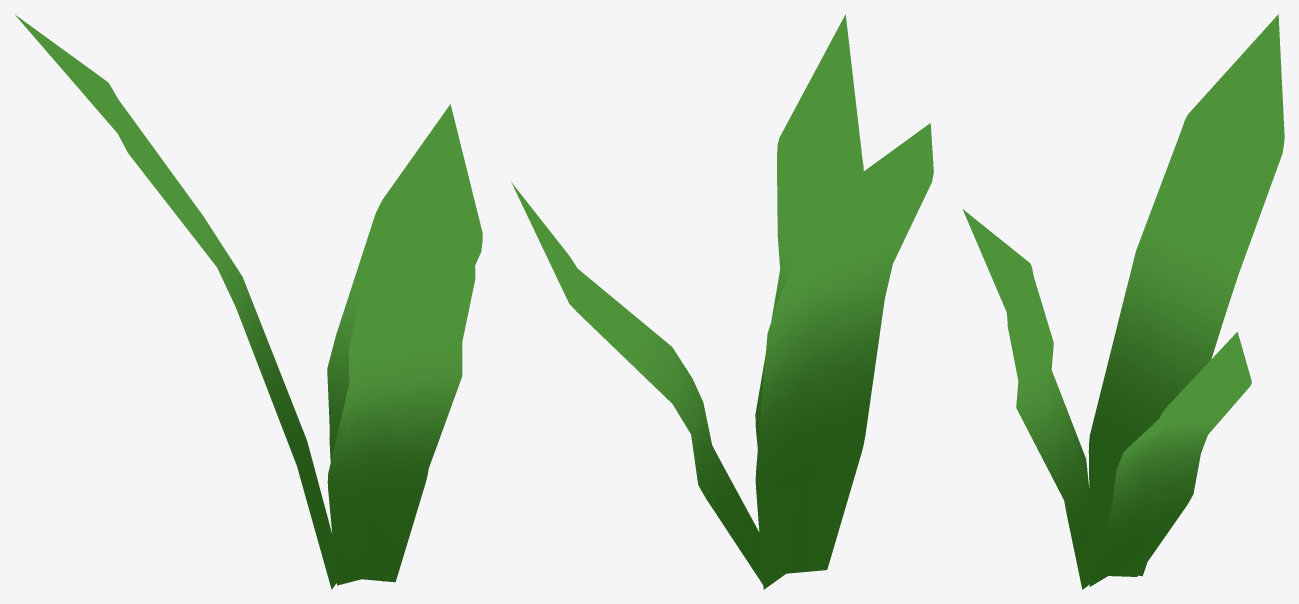
File: Sm_Grass1L.fbx
The picture shows the model from 3 angles, left to right: view 1: azimuth 30°, elevation 25°; view 2: azimuth 150°, elevation 25°; view 3: azimuth 270°, elevation 25°; orthographic projection. The views are drawn at different scales.
Parts seen in each view (by area): view 1: Sm_Grass1L; view 2: Sm_Grass1L; view 3: Sm_Grass1L.
Boxes of the visible parts, x1,y1,x2,y2 form: Sm_Grass1L: [15, 15, 482, 589]; Sm_Grass1L: [511, 14, 933, 589]; Sm_Grass1L: [962, 14, 1284, 589].
Bounding box in the file's own units: 22.21 × 28.28 × 17.71.
